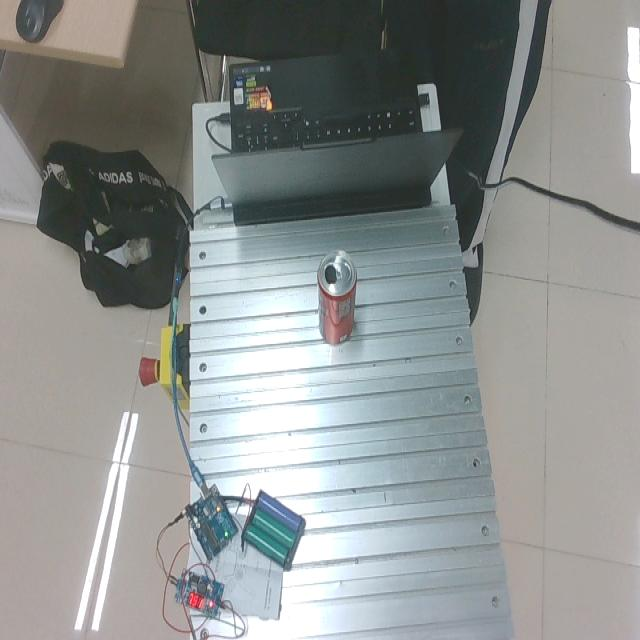coca: (316, 250, 357, 346)
